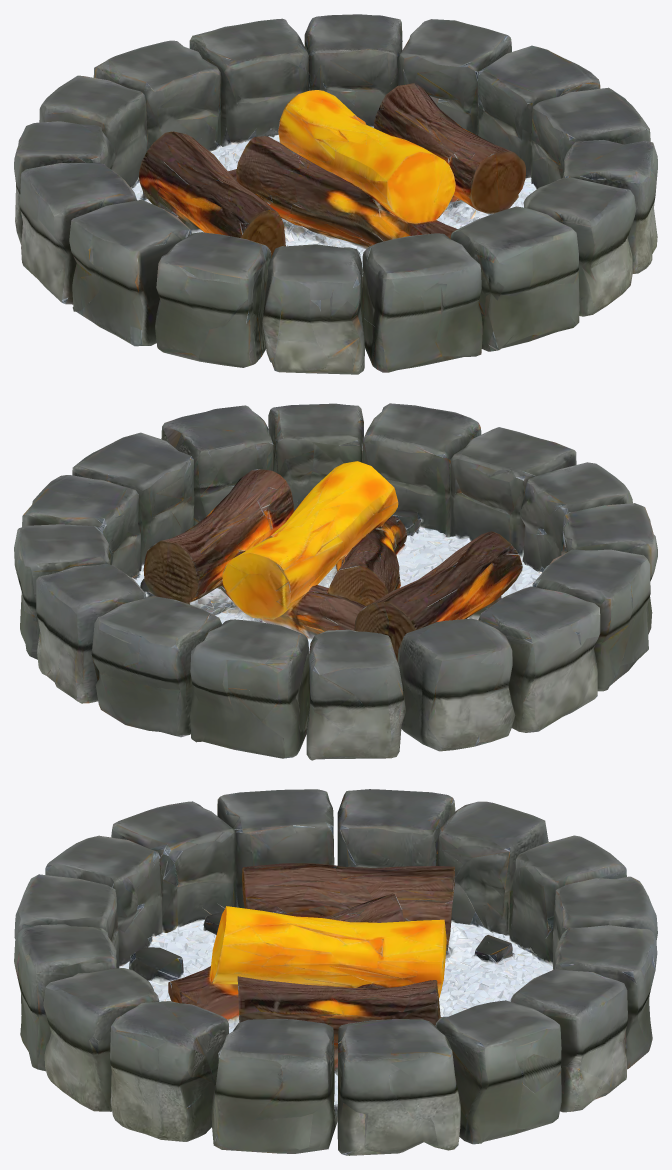
The model's file is fire_pit.glb.
3 renders of one model, top to bottom at view 1: azimuth 30°, elevation 25°; view 2: azimuth 150°, elevation 25°; view 3: azimuth 270°, elevation 25°, orthographic. The views are drawn at different scales.
Bounding box in the file's own units: 1.89 × 0.4052 × 1.87.
1 material, 1 textured.
